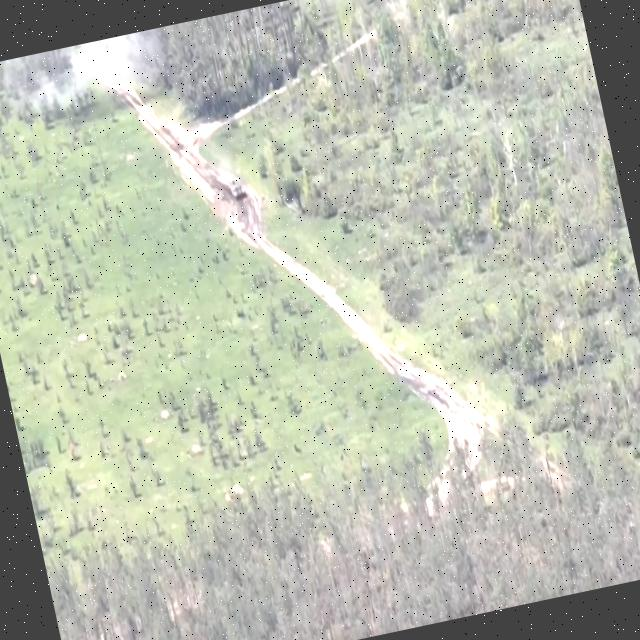MBT: (228, 177, 248, 205)
